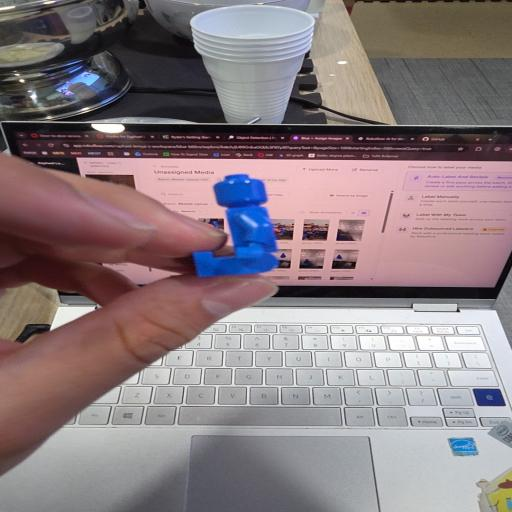Blue: (194, 175, 277, 276)
